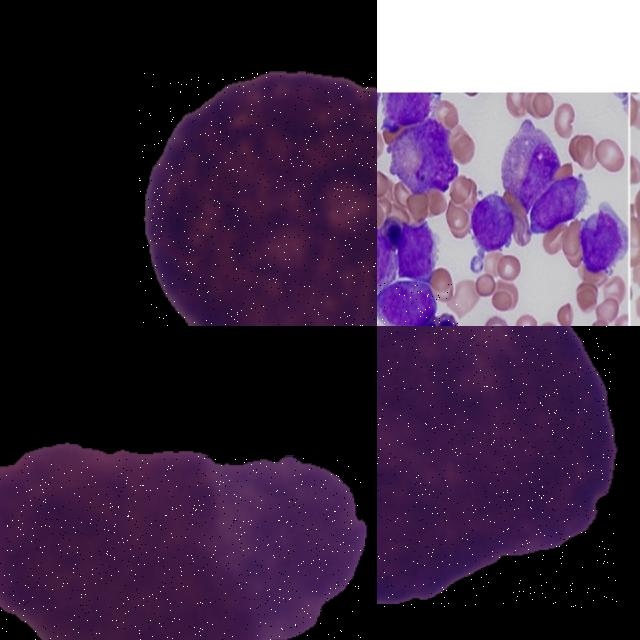ALL Negative Cells: (0, 456, 361, 640)
ALL Positive Cell: (377, 326, 617, 605), (139, 70, 377, 326), (531, 172, 596, 231), (377, 281, 458, 326), (398, 125, 455, 187), (580, 208, 630, 274), (469, 190, 515, 254)
